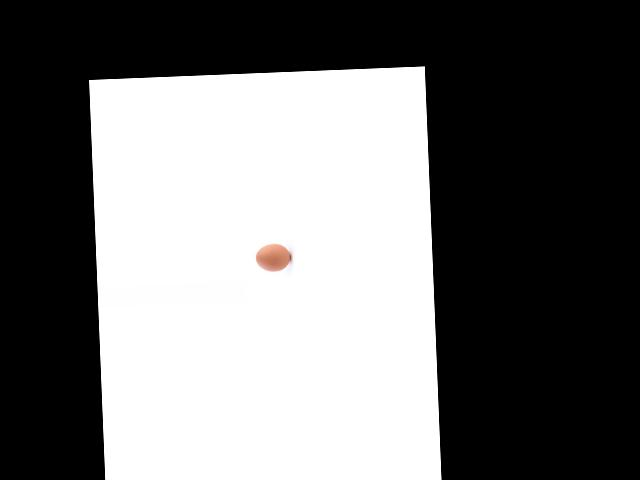egg: (255, 243, 291, 273)
